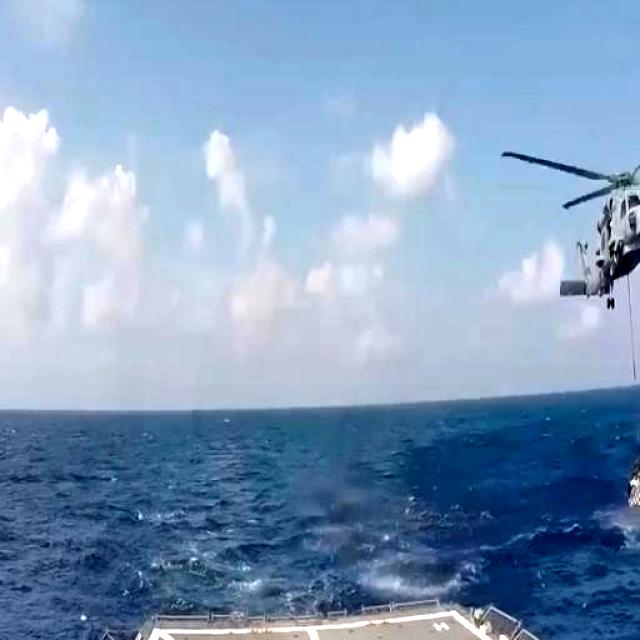drone: (500, 92, 640, 308)
